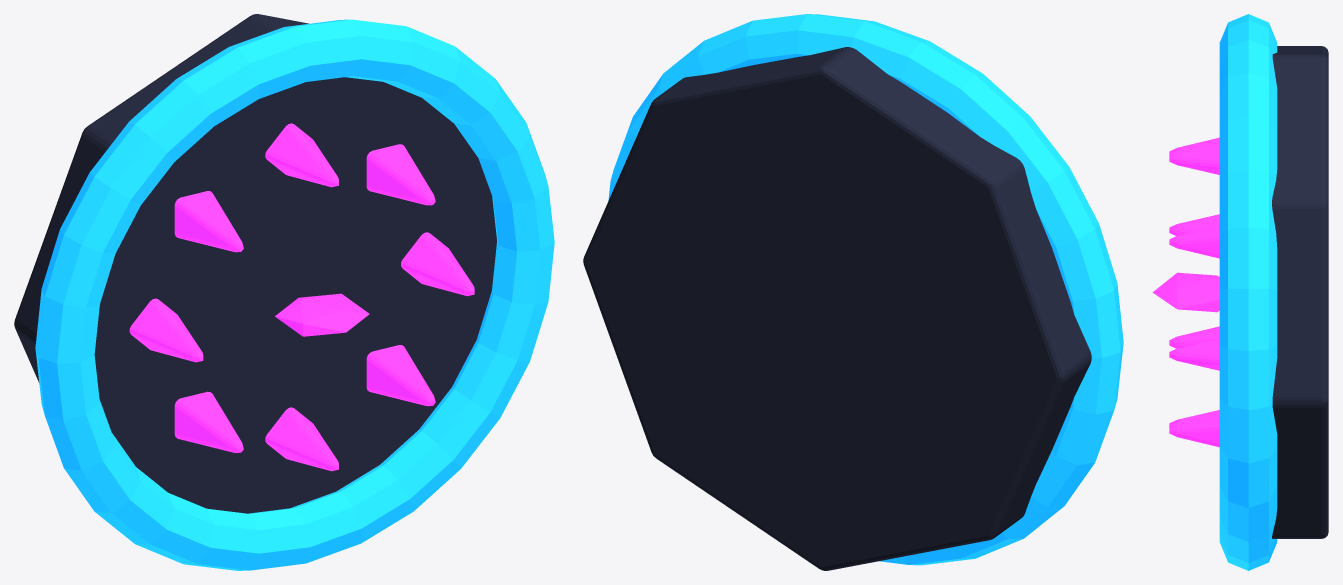
File: super_rare_rune.glb
3 views of the same model, side by side, from view 1: azimuth 30°, elevation 25°; view 2: azimuth 150°, elevation 25°; view 3: azimuth 270°, elevation 25° (orthographic). The views are drawn at different scales.
Parts seen in each view (by area): view 1: RuneBody.002, Torus.029, Star_05.002, Star_01.002, Star_03.002, Star_07.002, Core.002, Star_00.002, Star_04.002, Star_06.002, Star_02.002; view 2: RuneBody.002, Torus.029; view 3: Torus.029, RuneBody.002, Core.002, Star_01.002, Star_07.002, Star_00.002, Star_02.002, Star_05.002, Star_04.002, Star_03.002, Star_06.002.
Part boxes in pixels (<box>): RuneBody.002: <box>14,14,496,513</box>; Torus.029: <box>35,19,554,570</box>; Star_05.002: <box>174,391,243,452</box>; Star_01.002: <box>366,144,435,205</box>; Star_03.002: <box>174,191,243,252</box>; Star_07.002: <box>366,345,435,406</box>; Core.002: <box>275,293,369,336</box>; Star_00.002: <box>401,232,474,296</box>; Star_04.002: <box>129,298,203,362</box>; Star_06.002: <box>265,407,338,471</box>; Star_02.002: <box>265,123,338,187</box>; RuneBody.002: <box>583,47,1091,570</box>; Torus.029: <box>608,14,1123,565</box>; Torus.029: <box>1219,14,1277,570</box>; RuneBody.002: <box>1272,46,1328,538</box>; Core.002: <box>1152,272,1219,312</box>; Star_01.002: <box>1169,225,1219,258</box>; Star_07.002: <box>1169,414,1219,447</box>; Star_00.002: <box>1169,338,1219,370</box>; Star_02.002: <box>1169,143,1219,174</box>; Star_05.002: <box>1169,326,1219,348</box>; Star_04.002: <box>1169,214,1219,235</box>; Star_03.002: <box>1169,137,1219,155</box>; Star_06.002: <box>1169,410,1219,427</box>.
Size of the model in its own units: 1.74 by 1.74 by 0.55.
